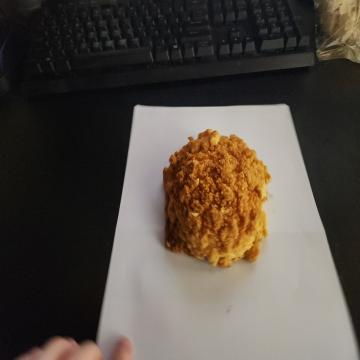soboru_bread: (160, 131, 270, 272)
